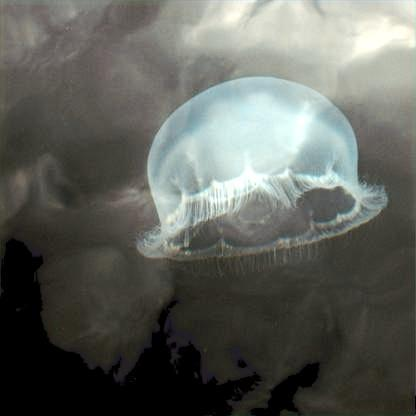Speckle: (140, 81, 387, 262)
